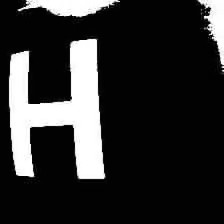LTR_H: (0, 26, 122, 181)
